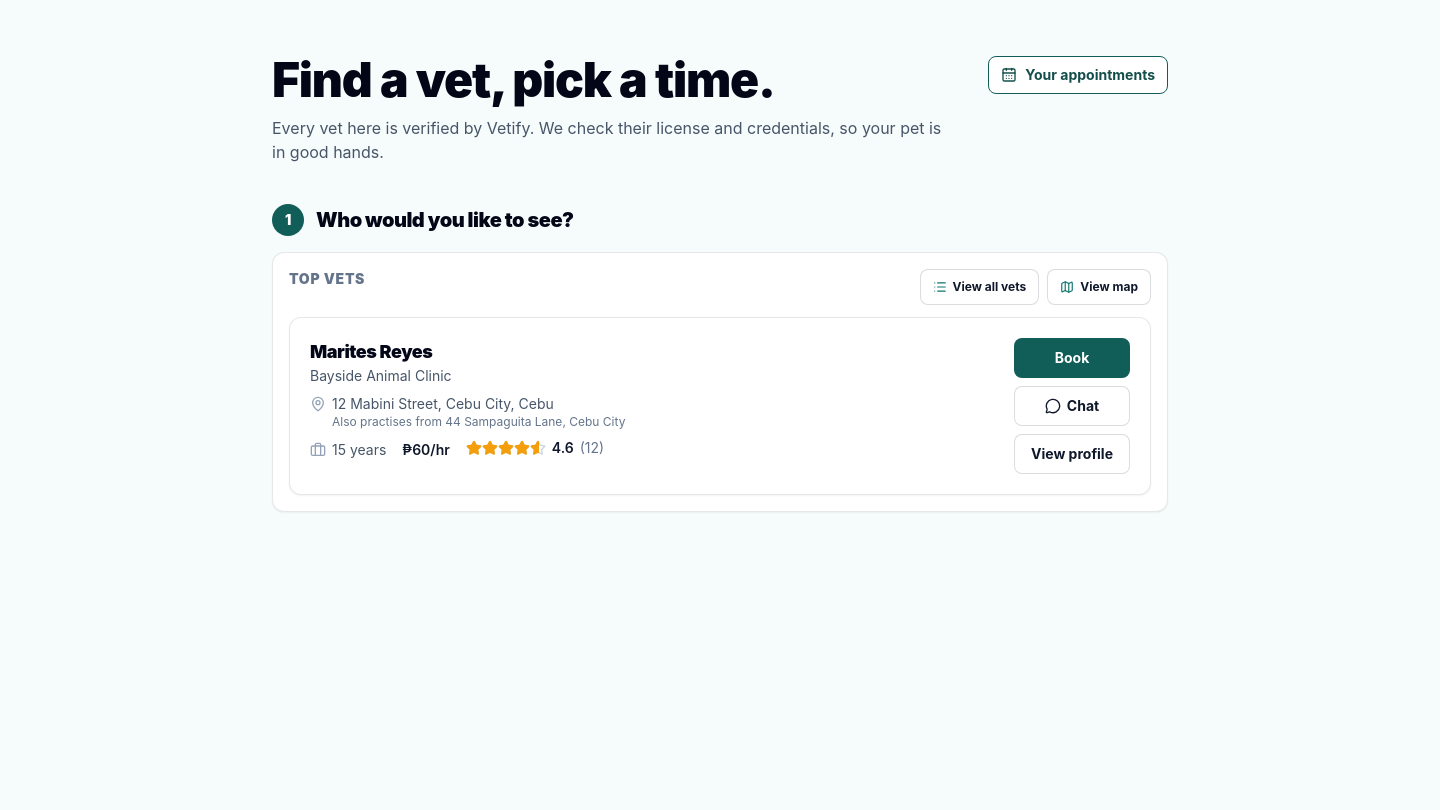
Test: the booking flow › opens appointments from the top-right button
What coordinates should you click on to do the following:
click the button "Your appointments"
I would click on:
 (1078, 75)
Its box is top-left (988, 56), bottom-right (1168, 94).
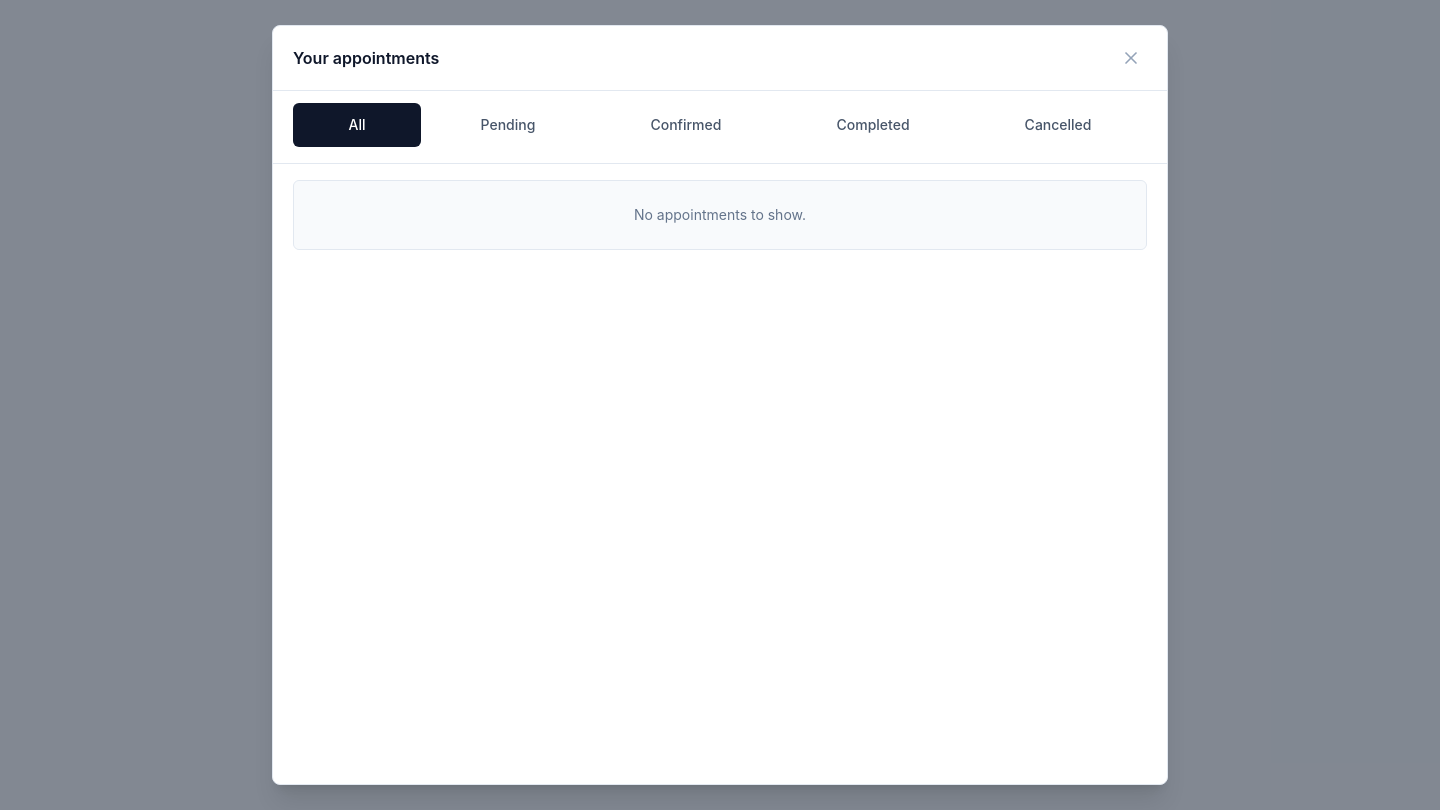
Check: the heading "Your appointments" is shown, box top-left (293, 46), bottom-right (439, 70)
